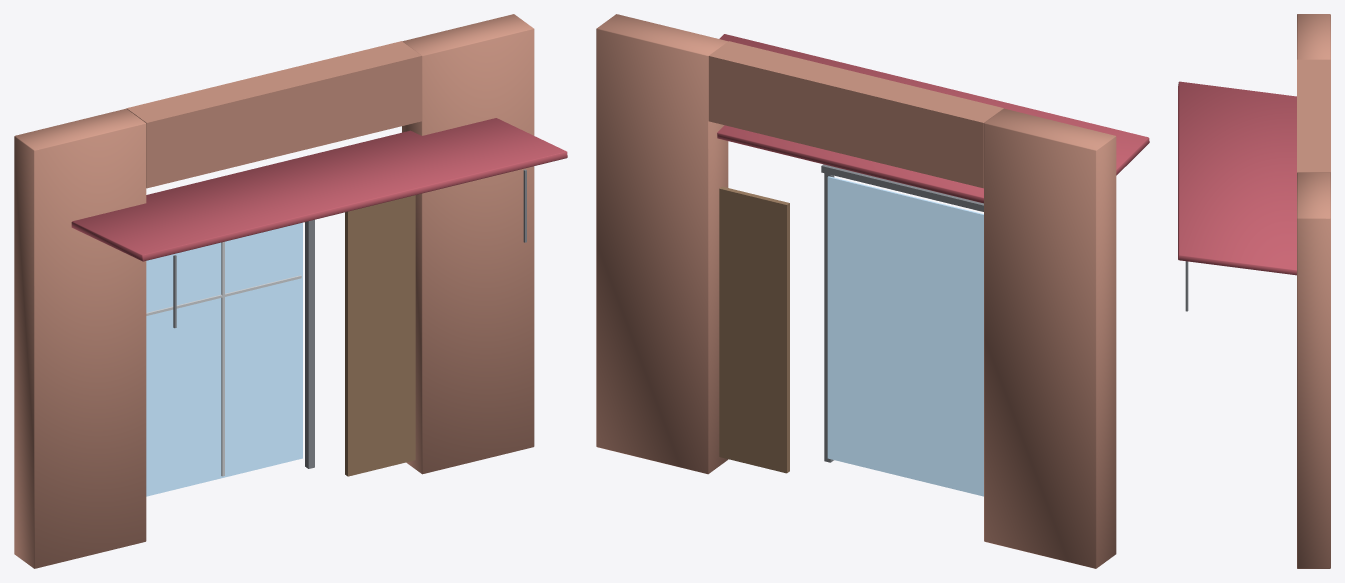
The model's file is ShopFront.fbx.
The picture shows the model from 3 angles, left to right: view 1: azimuth 30°, elevation 25°; view 2: azimuth 150°, elevation 25°; view 3: azimuth 270°, elevation 25°; orthographic projection. The views are drawn at different scales.
Visible parts, largest first — view 1: LOD0; view 2: LOD0; view 3: LOD0.
Boxes of the visible parts, x1,y1,x2,y2 form: LOD0: (14,14,567,568); LOD0: (596,14,1149,568); LOD0: (1178,14,1330,568).
Size of what is drawn, in the model's own units: 400 by 320 by 126.
